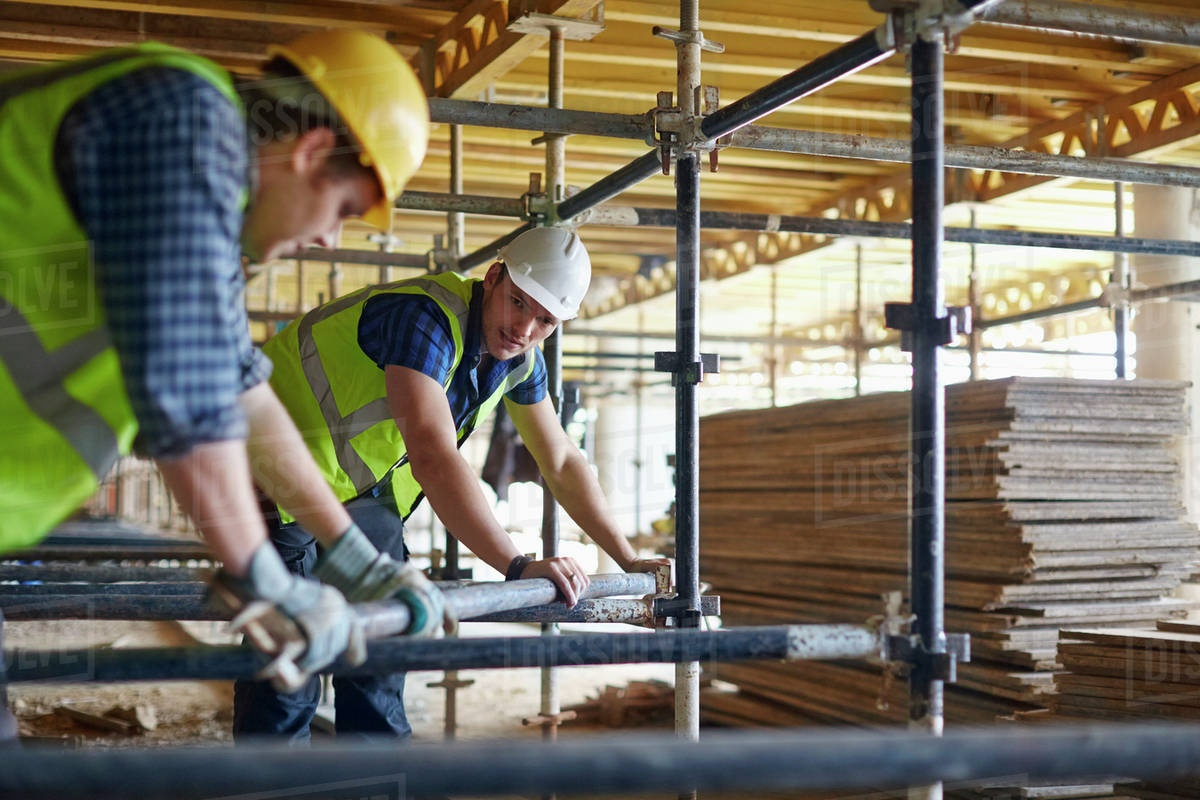white: (483, 230, 588, 355)
yellow: (239, 26, 433, 261)
